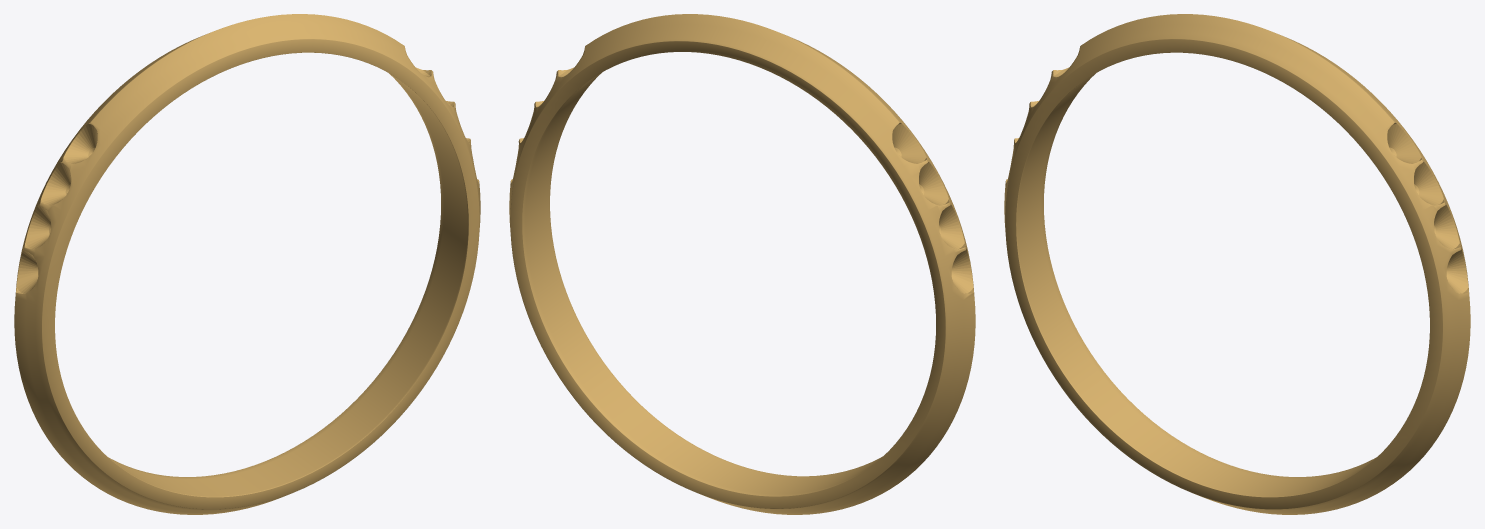
Rendered from knife-edge-flush-accents-head.glb.
3 renders of one model, left to right at view 1: azimuth 30°, elevation 25°; view 2: azimuth 150°, elevation 25°; view 3: azimuth 330°, elevation 25°, orthographic.
Visible parts, largest first — view 1: Band; view 2: Band; view 3: Band.
Boxes of the visible parts, x1,y1,x2,y2 form: Band: [14, 14, 480, 514]; Band: [509, 14, 975, 514]; Band: [1004, 14, 1470, 514].
Size of the model in its own units: 19.6 by 19.6 by 2.1.
